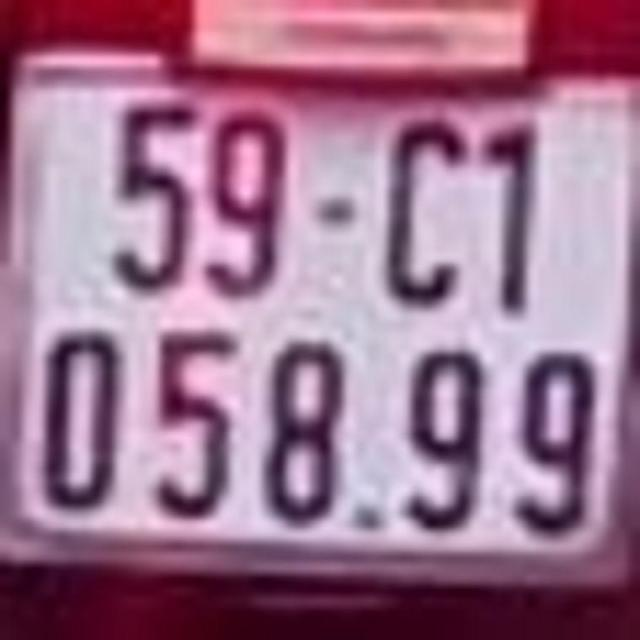0: (48, 328, 116, 509)
1: (482, 114, 538, 316)
5: (106, 97, 194, 288), (165, 314, 238, 516)
8: (270, 328, 341, 525)
9: (516, 350, 592, 540), (210, 108, 284, 303), (416, 342, 482, 538)
C: (382, 124, 464, 308)
